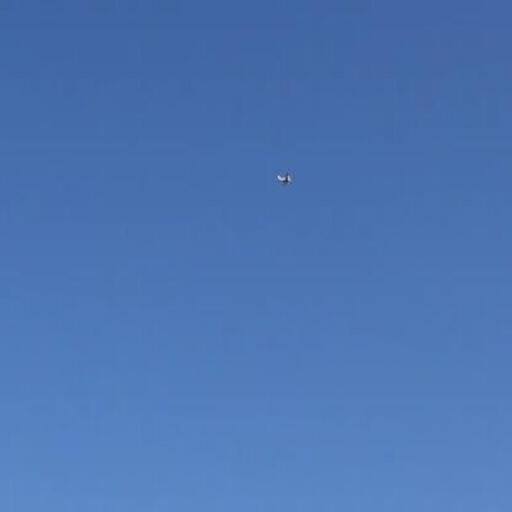aircraft: (274, 173, 292, 186)
